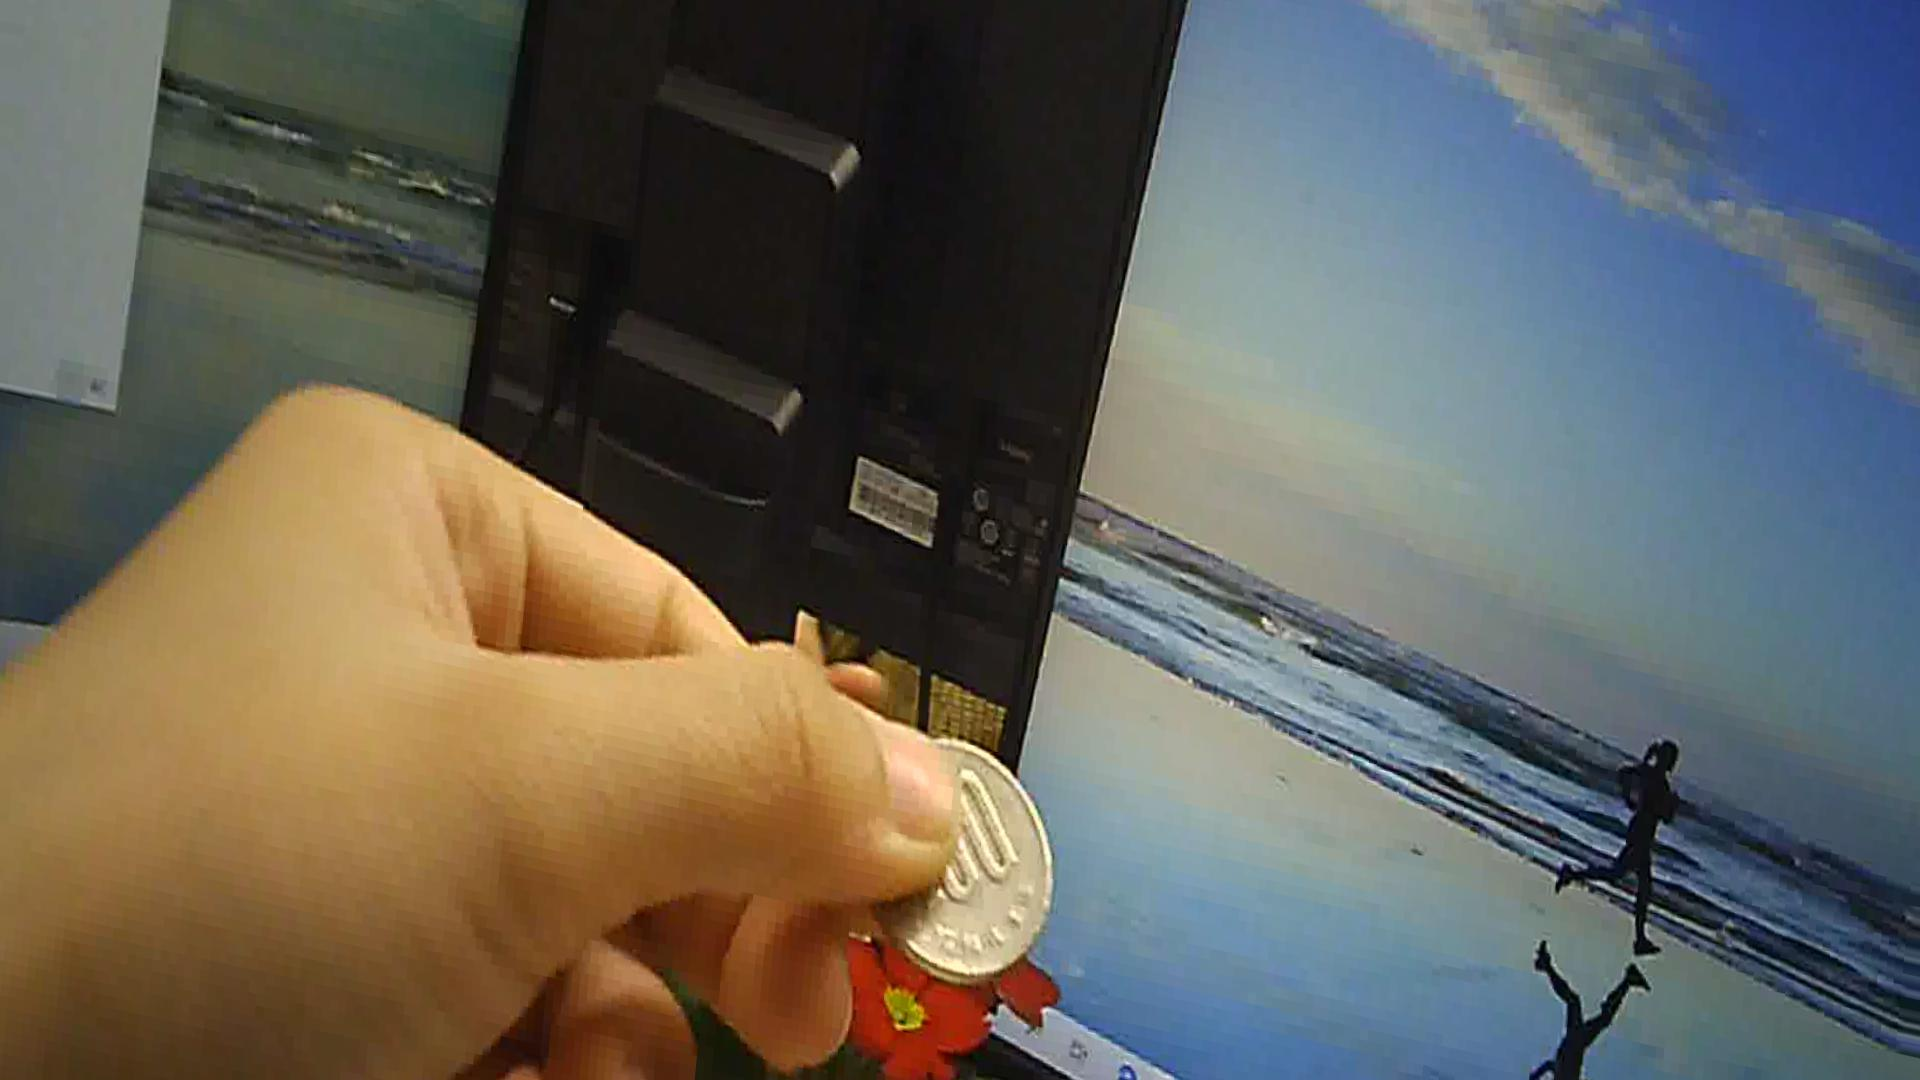100 Yen: (860, 719, 1075, 1010)
